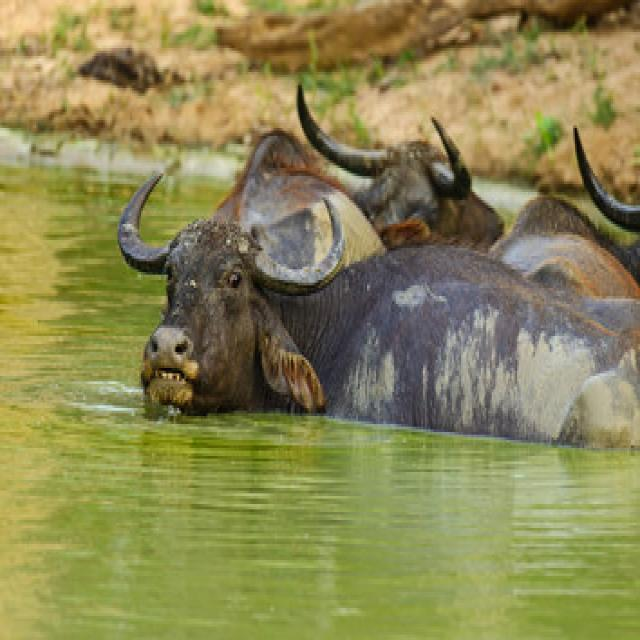Buffalo: (99, 165, 640, 463)
